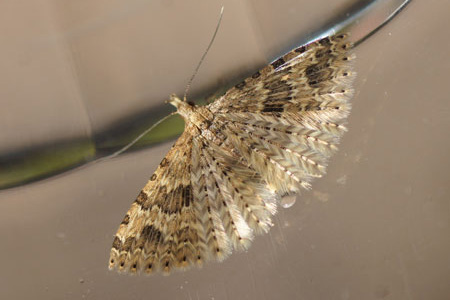Alucitidae: (22, 1, 362, 272)
moth: (24, 3, 364, 274)
